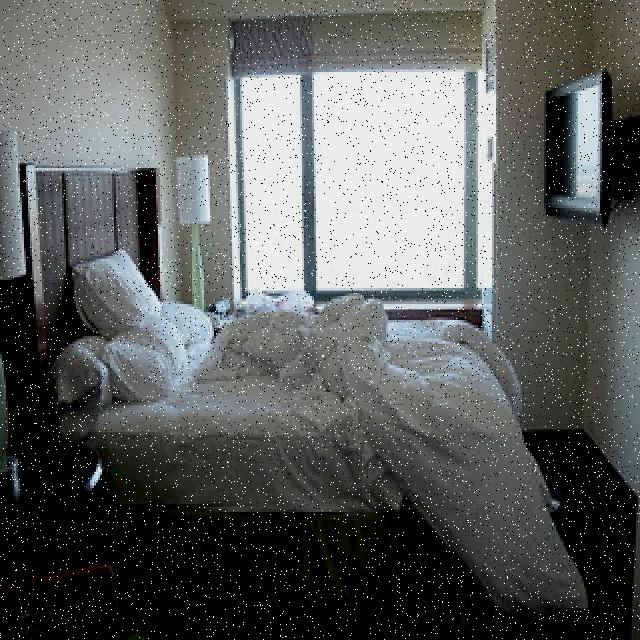bed: (48, 245, 521, 516)
